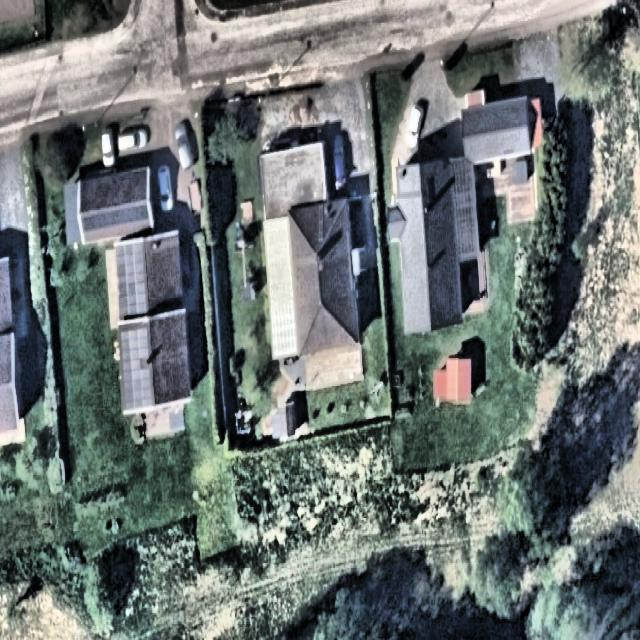roof_pv: (113, 241, 148, 322), (120, 366, 155, 408), (119, 328, 148, 356), (120, 353, 143, 372)
